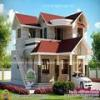stairs: (16, 52, 32, 88)
